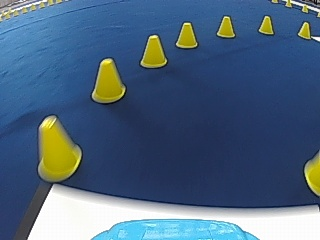cone: (36, 115, 81, 182), (90, 57, 126, 103), (140, 34, 168, 68), (303, 147, 319, 199), (175, 21, 198, 49), (216, 15, 235, 38), (258, 15, 274, 35), (298, 21, 311, 39)
